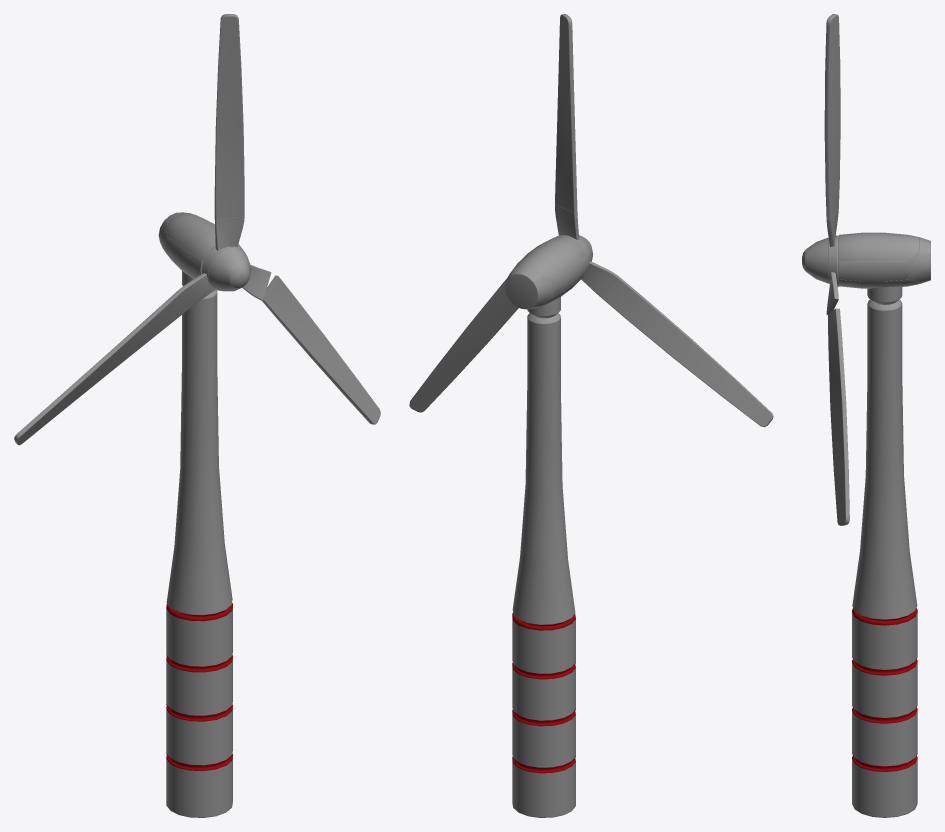
Rendered from brokeWindTurbine.FBX.
The picture shows the model from 3 angles, left to right: view 1: azimuth 30°, elevation 25°; view 2: azimuth 150°, elevation 25°; view 3: azimuth 270°, elevation 25°; orthographic projection. The views are drawn at different scales.
Parts seen in each view (by area): view 1: cylinder84, polymsh_detached134, polymsh_extracted67, polymsh_extracted72, polymsh_extracted71, polymsh_extracted65, polymsh_detached130, polymsh_detached129, polymsh_detached132, polymsh_detached135, polymsh_extracted66; view 2: cylinder84, polymsh_detached134, polymsh_extracted71, polymsh_extracted72, polymsh_extracted67, polymsh_extracted65, polymsh_detached131, polymsh_detached135, polymsh_detached132; view 3: cylinder84, polymsh_detached134, polymsh_extracted72, polymsh_extracted67, polymsh_extracted65, polymsh_detached132, polymsh_detached130, polymsh_detached131, polymsh_detached133, polymsh_extracted66, polymsh_detached136, polymsh_detached129.
Part boxes in pixels (left/top/right/bottom): cylinder84: left=166, top=290, right=232, bottom=616; polymsh_detached134: left=166, top=603, right=232, bottom=817; polymsh_extracted67: left=214, top=14, right=244, bottom=219; polymsh_extracted72: left=261, top=275, right=380, bottom=424; polymsh_extracted71: left=14, top=291, right=188, bottom=445; polymsh_extracted65: left=166, top=213, right=239, bottom=278; polymsh_detached130: left=208, top=247, right=251, bottom=291; polymsh_detached129: left=214, top=216, right=244, bottom=250; polymsh_detached132: left=165, top=236, right=203, bottom=276; polymsh_detached135: left=178, top=273, right=215, bottom=309; polymsh_extracted66: left=201, top=245, right=249, bottom=290; cylinder84: left=512, top=313, right=575, bottom=626; polymsh_detached134: left=512, top=613, right=575, bottom=817; polymsh_extracted71: left=602, top=277, right=773, bottom=427; polymsh_extracted72: left=409, top=277, right=518, bottom=412; polymsh_extracted67: left=555, top=14, right=577, bottom=212; polymsh_extracted65: left=513, top=236, right=586, bottom=307; polymsh_detached131: left=505, top=266, right=554, bottom=309; polymsh_detached135: left=581, top=261, right=618, bottom=297; polymsh_detached132: left=553, top=255, right=587, bottom=296; cylinder84: left=852, top=299, right=917, bottom=621; polymsh_detached134: left=852, top=608, right=917, bottom=817; polymsh_extracted72: left=828, top=308, right=849, bottom=525; polymsh_extracted67: left=824, top=14, right=840, bottom=219; polymsh_extracted65: left=838, top=232, right=919, bottom=288; polymsh_detached132: left=838, top=261, right=907, bottom=281; polymsh_detached130: left=806, top=238, right=828, bottom=283; polymsh_detached131: left=908, top=237, right=930, bottom=283; polymsh_detached133: left=867, top=287, right=902, bottom=304; polymsh_extracted66: left=802, top=235, right=838, bottom=285; polymsh_detached136: left=826, top=272, right=838, bottom=314; polymsh_detached129: left=826, top=208, right=838, bottom=246.
Bounding box in the file's own units: 34.06 × 70.41 × 10.42.
